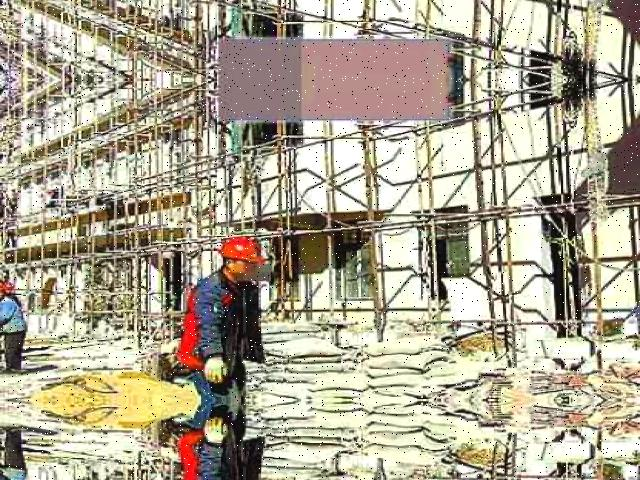Helmet: (211, 234, 268, 269)
